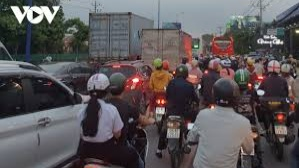Bien-so: (274, 126, 288, 135), (167, 127, 180, 136), (155, 106, 165, 114)
